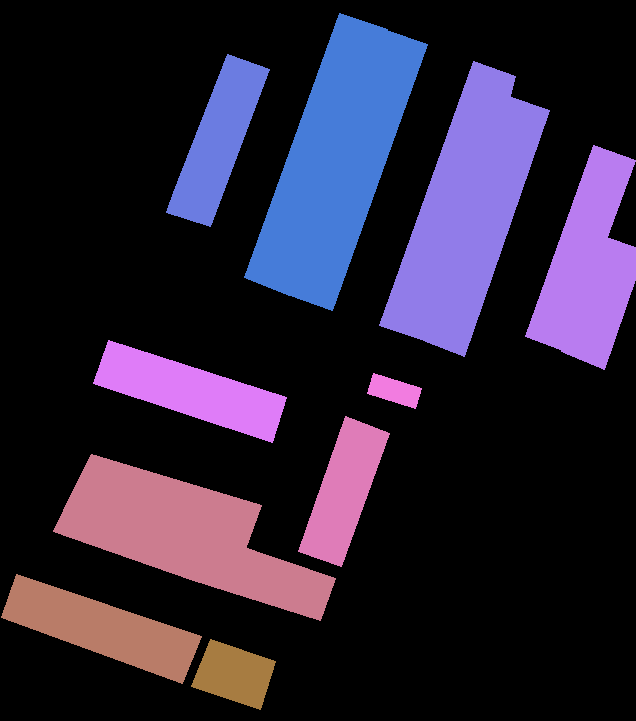parkingspot: (244, 13, 387, 295), (287, 29, 427, 310), (379, 61, 515, 340), (53, 489, 335, 620), (423, 96, 549, 356), (525, 145, 635, 351), (1, 574, 201, 683), (93, 340, 286, 442), (72, 454, 261, 549), (166, 54, 269, 226), (298, 416, 389, 566), (561, 237, 636, 369), (191, 639, 275, 709), (367, 373, 421, 408)
